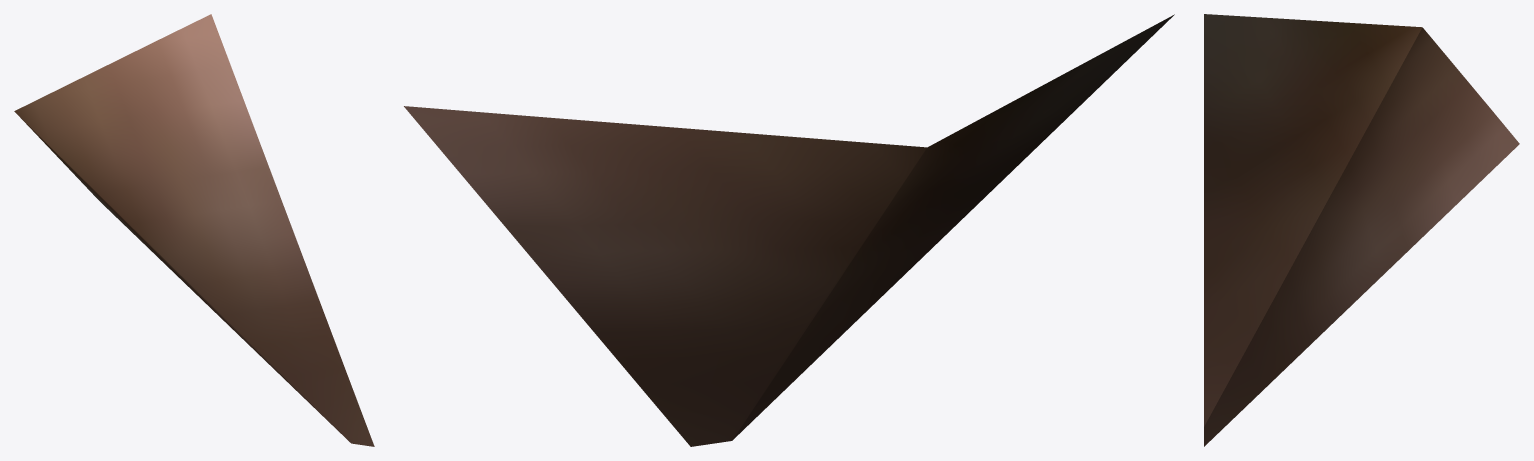
3 views of the same model, side by side, from view 1: azimuth 30°, elevation 25°; view 2: azimuth 150°, elevation 25°; view 3: azimuth 270°, elevation 25° (orthographic). The views are drawn at different scales.
Size of the model in its own units: 0.0284 by 0.0308 by 0.0291.
1 material, 1 textured.
